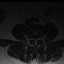CCS_normal: (34, 37, 36, 46)
LFS_stenosis: (38, 36, 40, 41)
LLS_normal: (36, 37, 38, 42)
RFS_stenosis: (30, 36, 33, 41)
RLS_stenosis: (33, 37, 35, 42)
